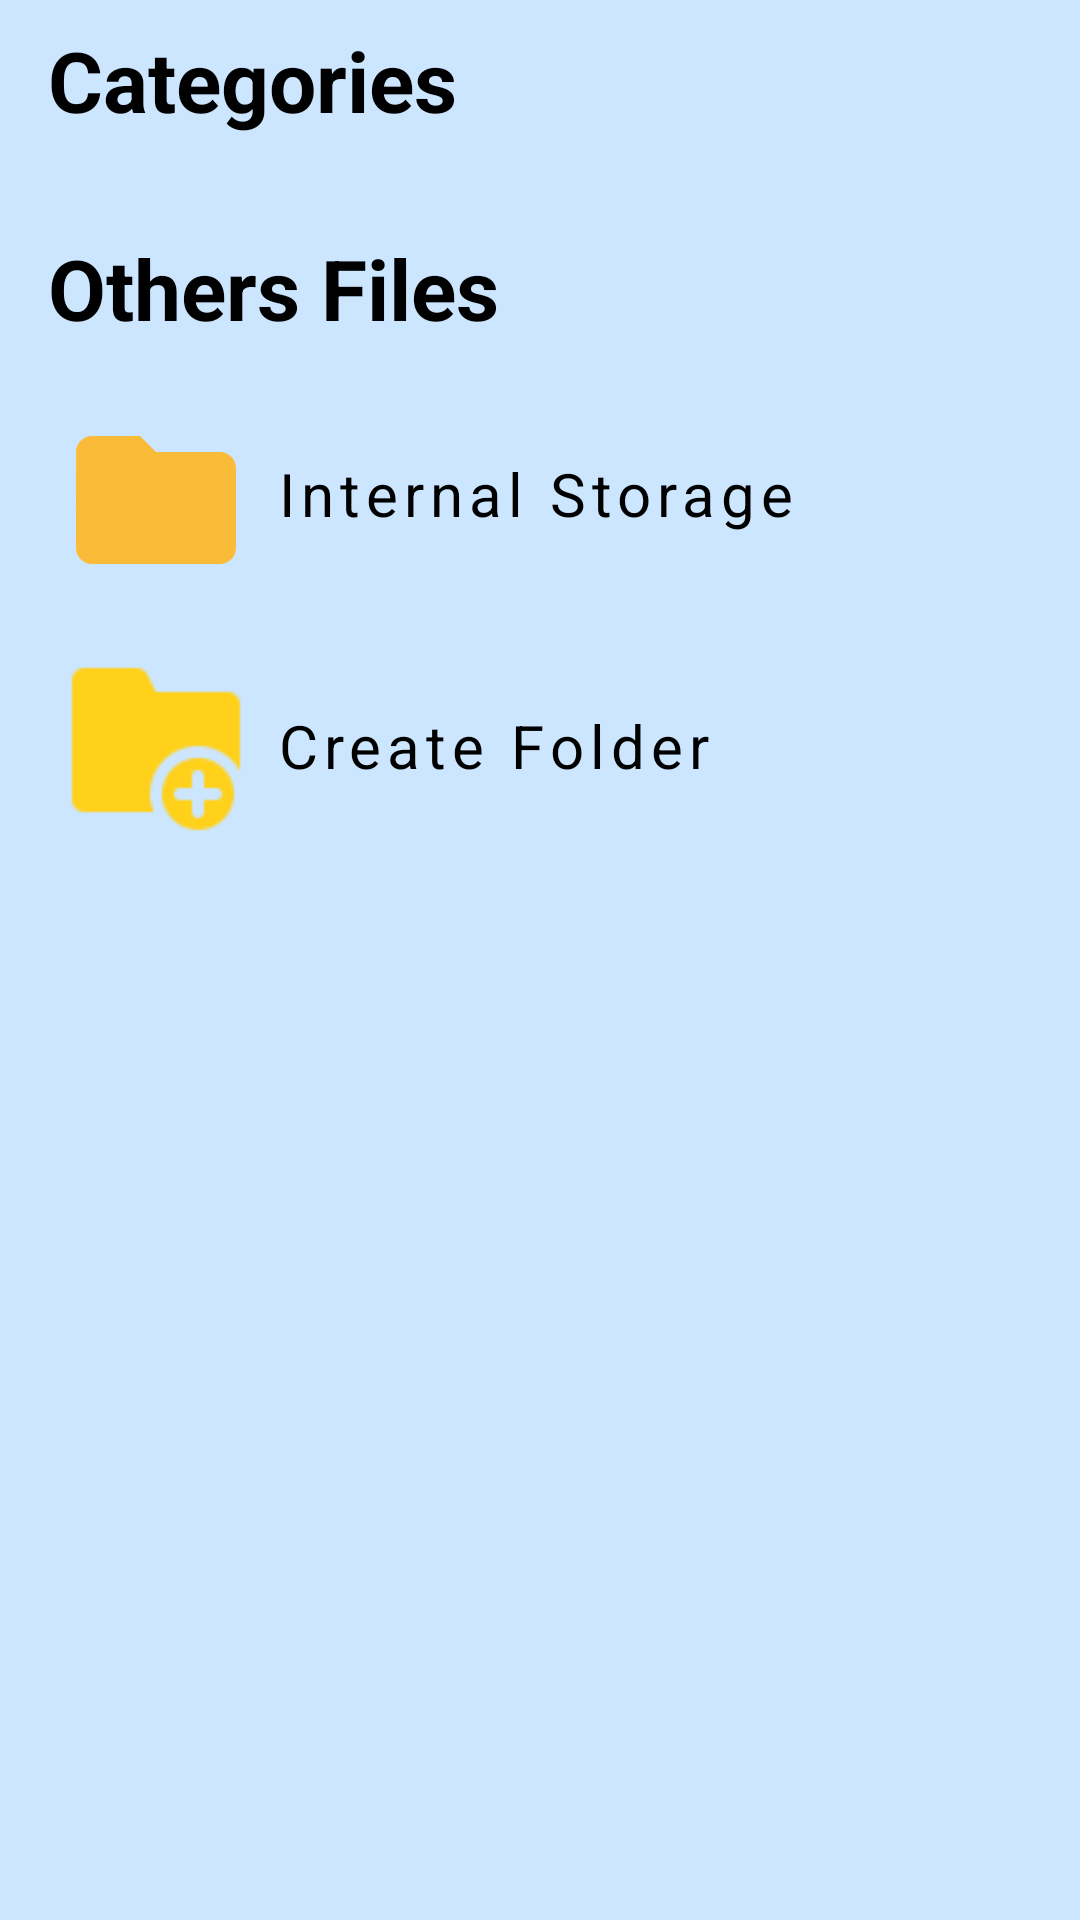

Icons on this 1080w x 1920h Android screen, each with its box as (x1, y1, x2, y2):
add: (71, 667, 241, 831)
